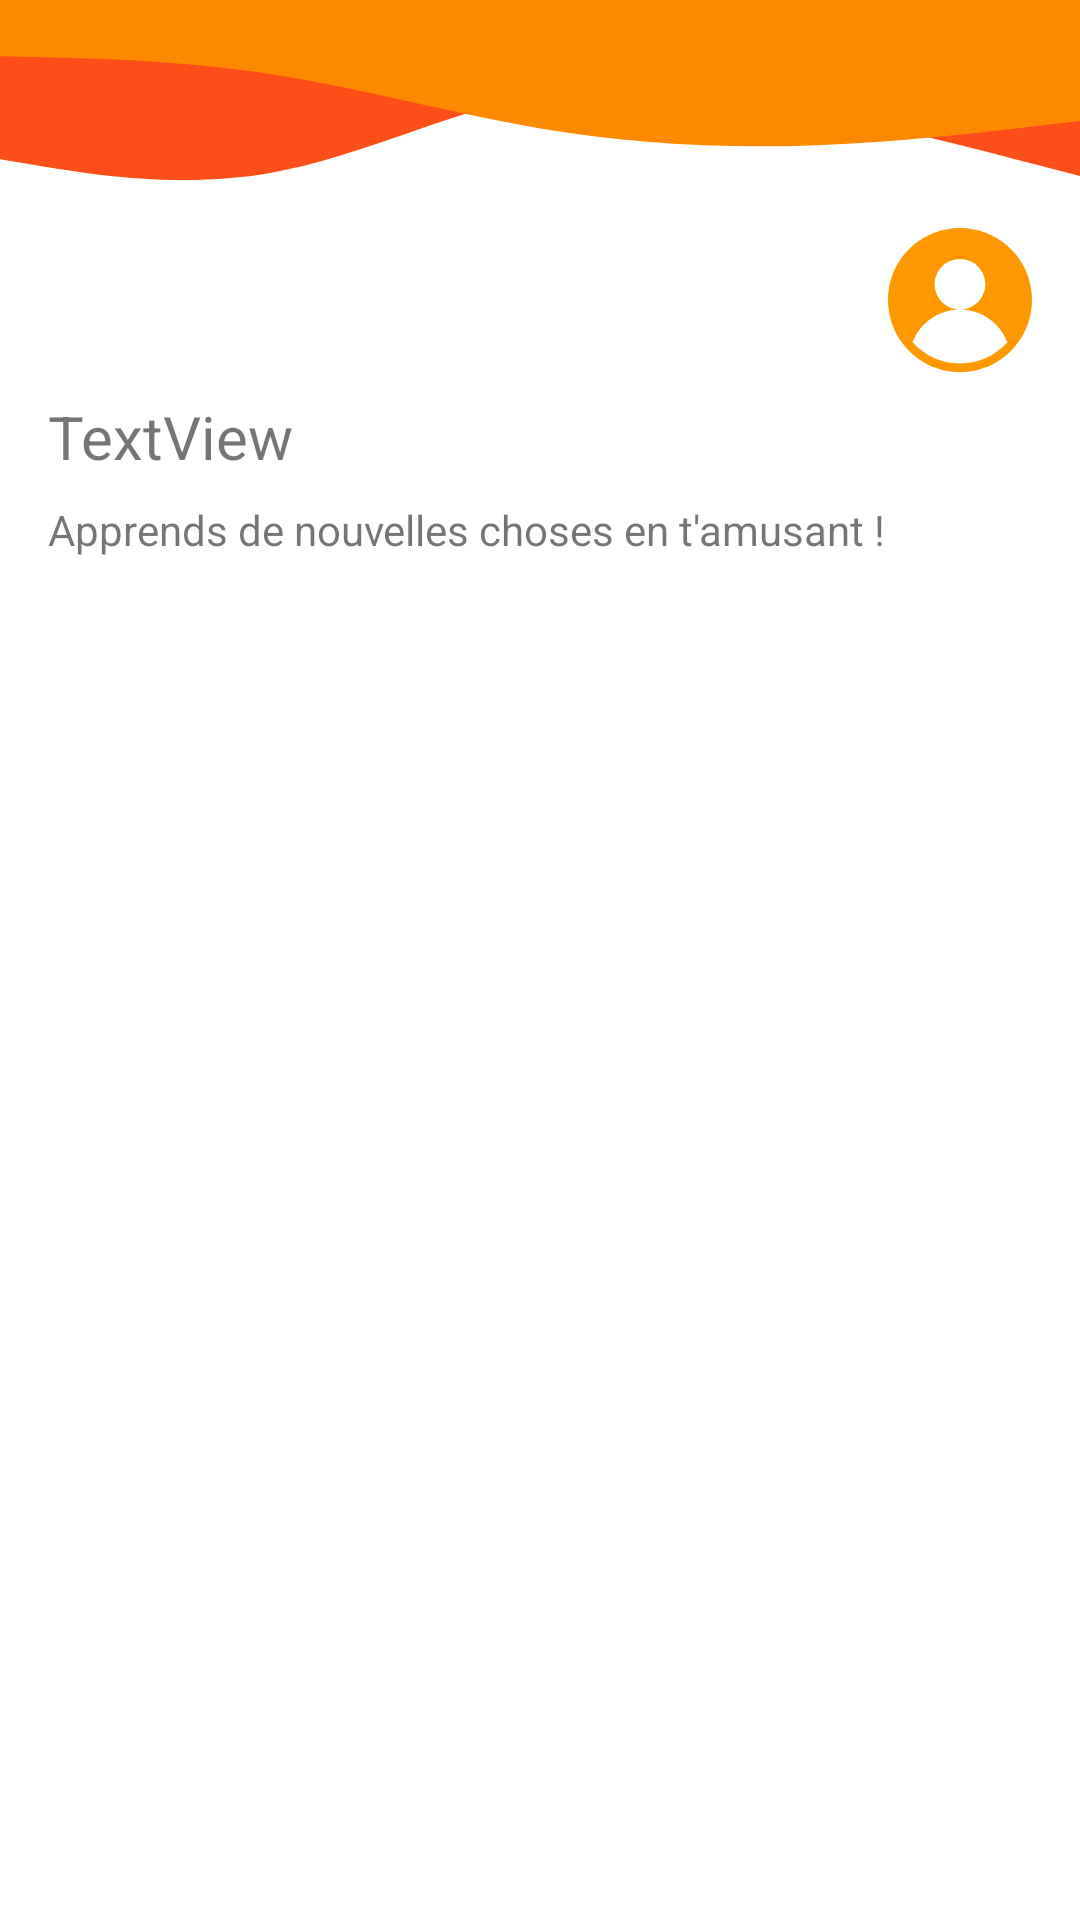

Named icons in this screenshot (1080*1920) and their centers, (x,y):
user: (960,300)
